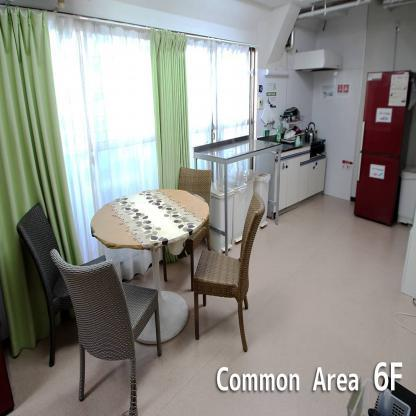chair: (48, 245, 163, 416), (12, 203, 103, 360), (187, 194, 275, 353), (157, 159, 222, 284)
table: (82, 189, 211, 349), (191, 132, 285, 253)
